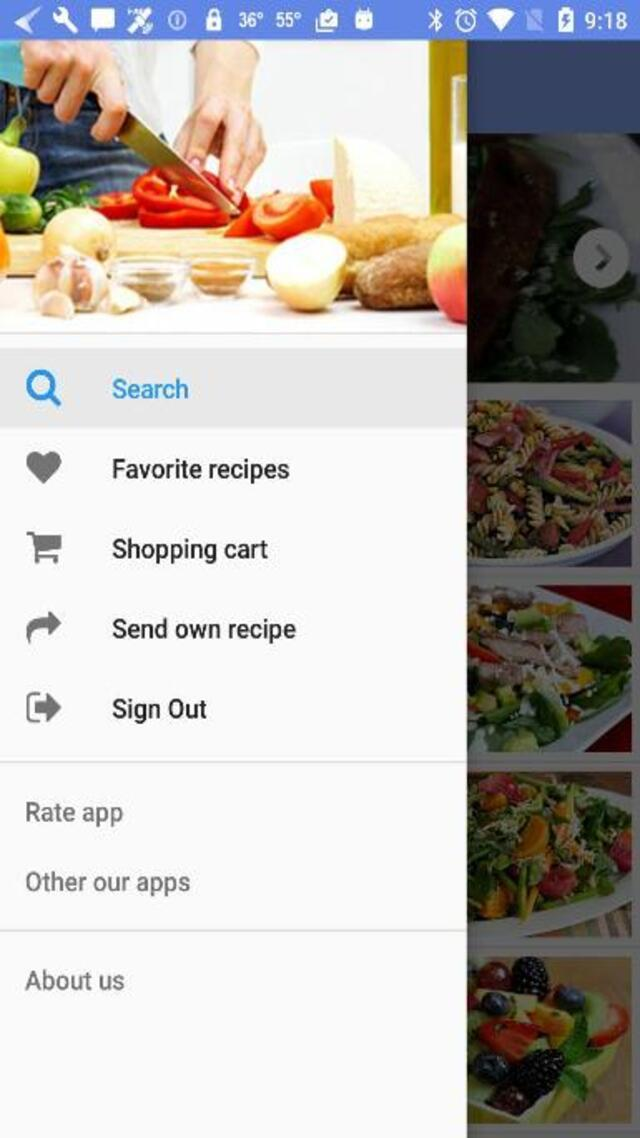Icon: (24, 368, 62, 407), (24, 610, 62, 644), (24, 692, 62, 724), (24, 532, 62, 564), (26, 452, 60, 484)
Image: (0, 41, 465, 333)
Text: (112, 616, 297, 644), (112, 458, 290, 484), (26, 870, 190, 898), (111, 538, 268, 564), (111, 696, 208, 723), (27, 801, 123, 828), (24, 968, 126, 991), (114, 378, 190, 401)
